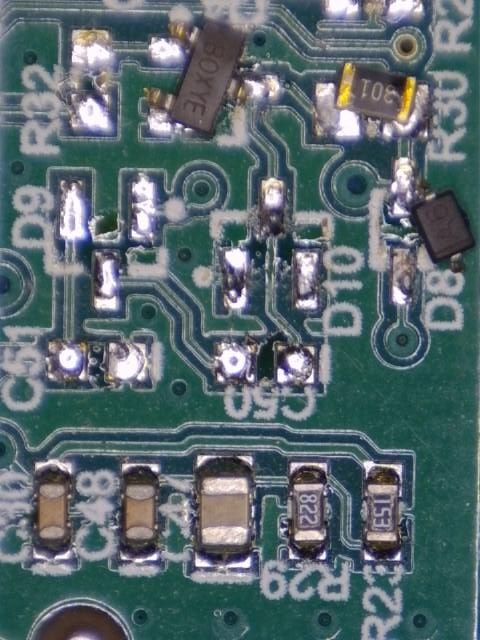pcb_defect: (145, 16, 281, 136), (392, 158, 475, 273), (313, 59, 429, 140)
